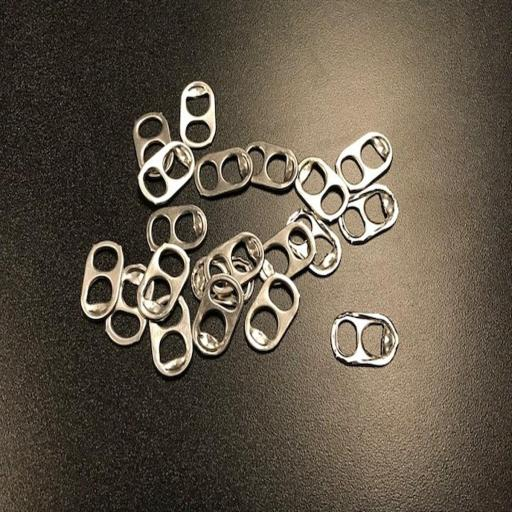pop tab: (245, 272, 301, 353), (193, 273, 245, 359), (104, 262, 155, 347), (136, 241, 190, 320), (330, 310, 400, 370), (337, 181, 400, 245), (285, 209, 342, 279), (148, 294, 193, 378), (293, 156, 350, 222), (138, 140, 195, 205), (80, 240, 124, 322), (205, 231, 264, 291), (336, 131, 394, 192), (258, 222, 314, 283), (238, 139, 299, 192), (145, 205, 208, 253), (195, 147, 254, 198), (132, 111, 174, 178), (180, 80, 216, 148)
